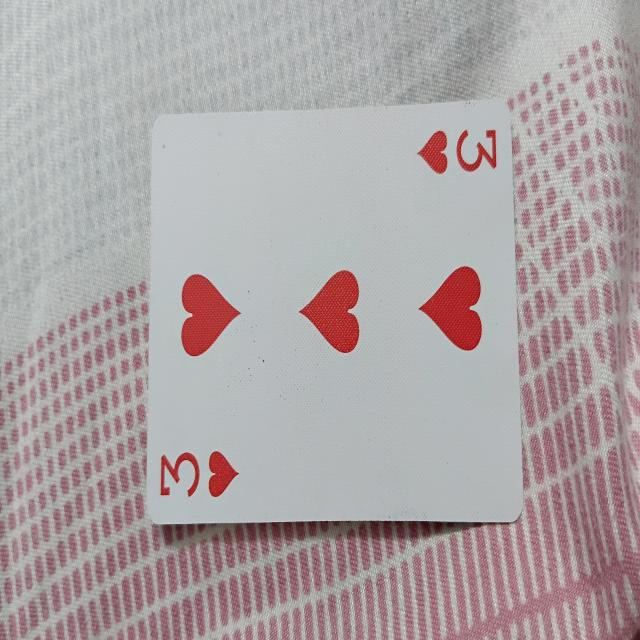3H: (146, 98, 514, 526)
